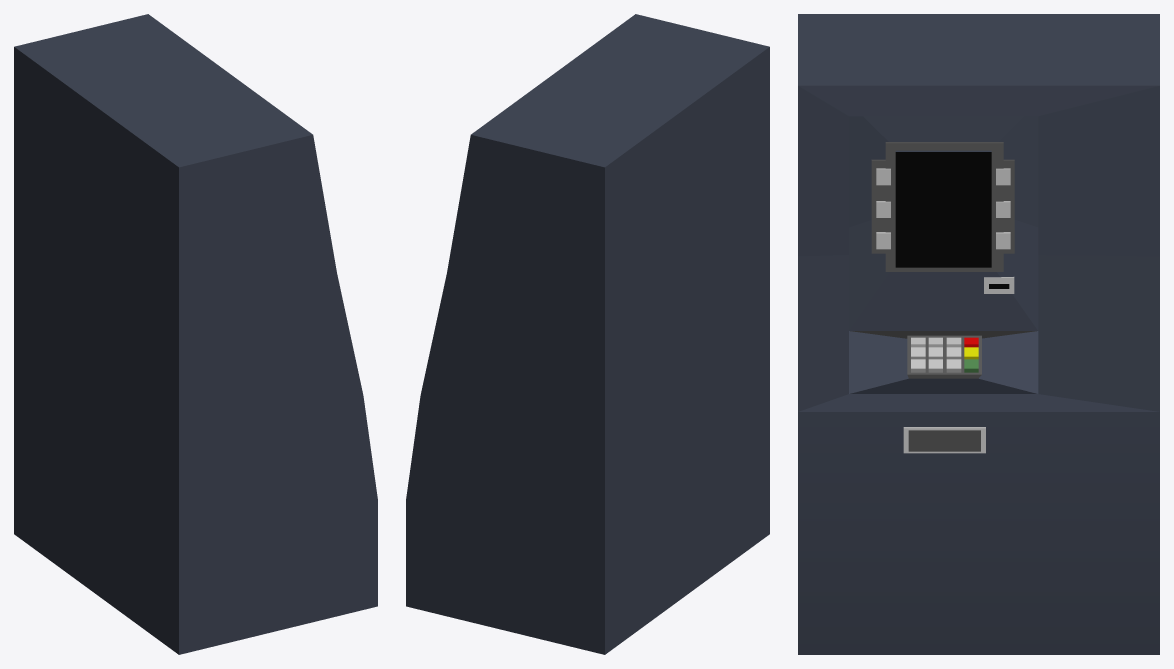
The model's file is ATM.fbx.
The picture shows the model from 3 angles, left to right: view 1: azimuth 30°, elevation 25°; view 2: azimuth 150°, elevation 25°; view 3: azimuth 270°, elevation 25°; orthographic projection. The views are drawn at different scales.
Parts seen in each view (by area): view 1: pCube363; view 2: pCube363; view 3: pCube363, pCube384, pCube388, pCube382, pCube385, pCube383.
Boxes of the visible parts, bbox=[...] form: pCube363: bbox=[14, 14, 377, 654]; pCube363: bbox=[406, 14, 769, 654]; pCube363: bbox=[798, 14, 1159, 654]; pCube384: bbox=[885, 142, 1003, 271]; pCube388: bbox=[908, 430, 980, 451]; pCube382: bbox=[871, 159, 885, 253]; pCube385: bbox=[903, 427, 985, 453]; pCube383: bbox=[1003, 159, 1014, 253].
Bounding box in the file's own units: 32.83 × 76.92 × 47.17.
